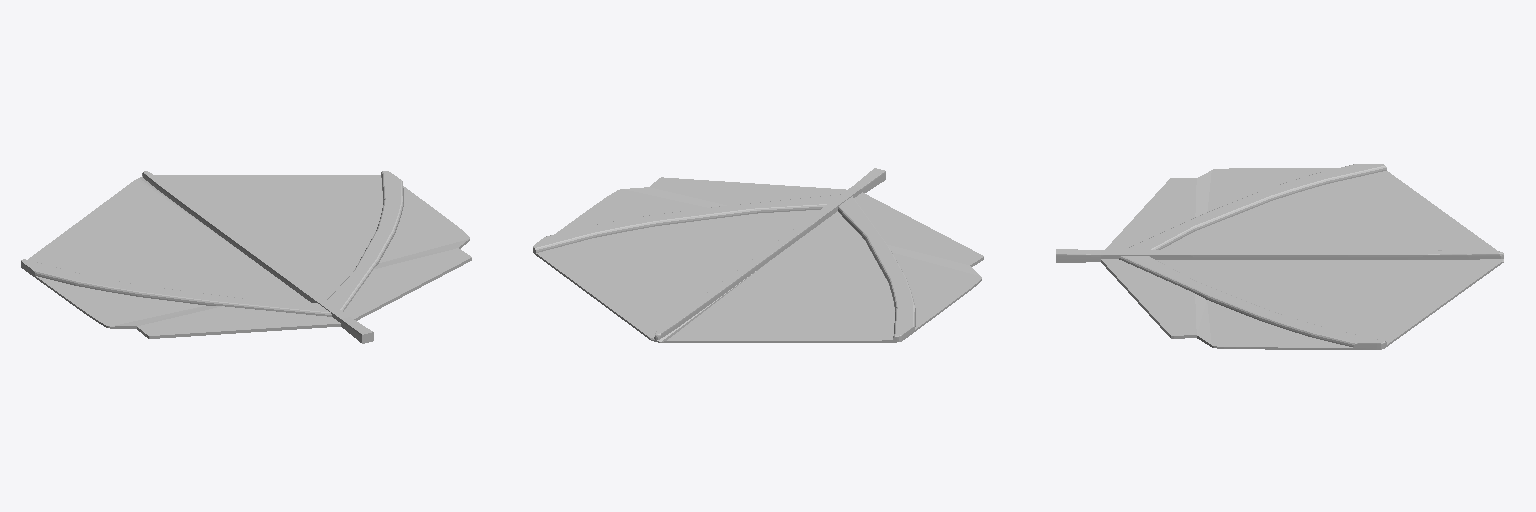
The model's file is ramura-3-30_baza-1-3-15-20.obj.
3 renders of one model, left to right at view 1: azimuth 30°, elevation 25°; view 2: azimuth 150°, elevation 25°; view 3: azimuth 270°, elevation 25°, orthographic.
Visible parts, largest first — view 1: Plane.001; view 2: Plane.001; view 3: Plane.001.
Boxes of the visible parts, x1,y1,x2,y2 form: Plane.001: [21, 171, 471, 343]; Plane.001: [533, 168, 983, 342]; Plane.001: [1056, 164, 1503, 349].
Bounding box in the file's own units: 0.4299 × 0.0102 × 0.4532.